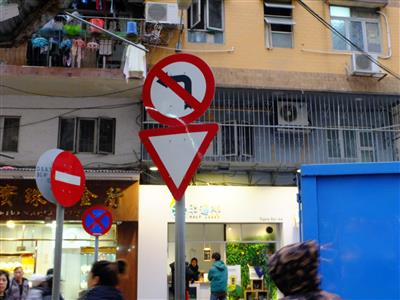noEntry: (48, 146, 85, 208)
noLeftTurn: (138, 50, 217, 126)
noStopping: (81, 202, 112, 236)
yield: (136, 120, 220, 201)
